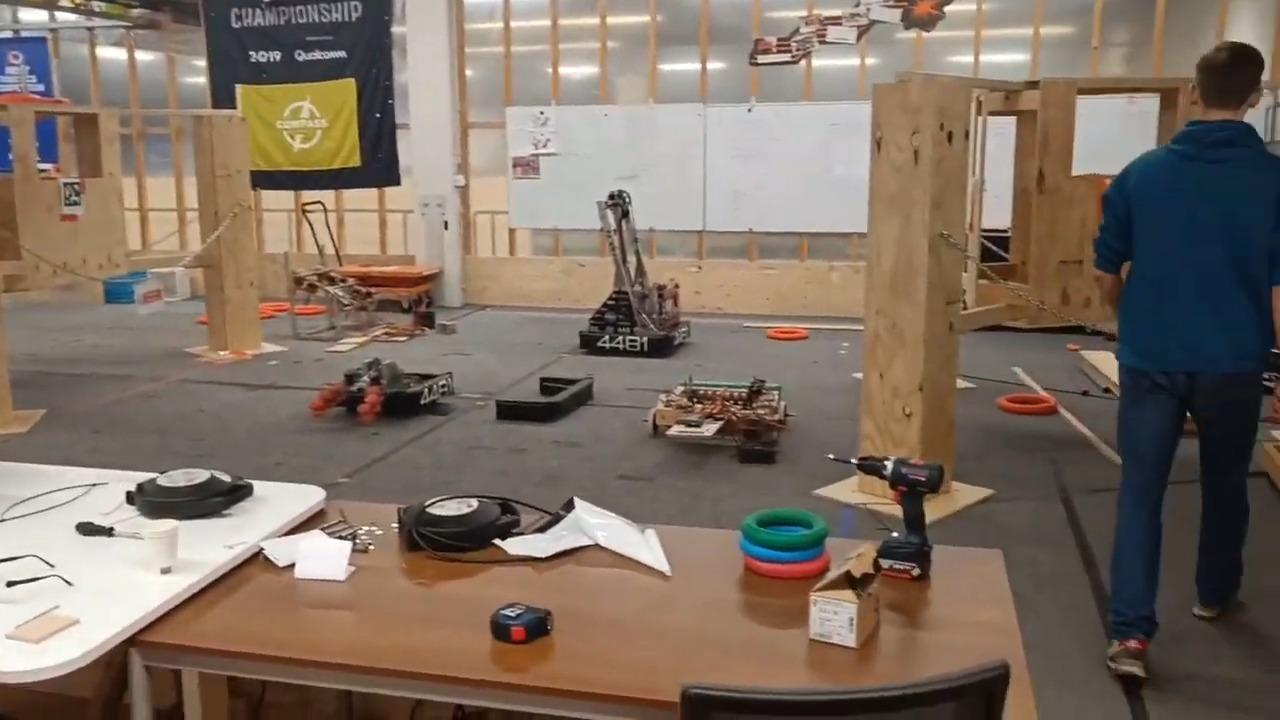robot: (576, 185, 693, 354), (309, 355, 456, 425)
